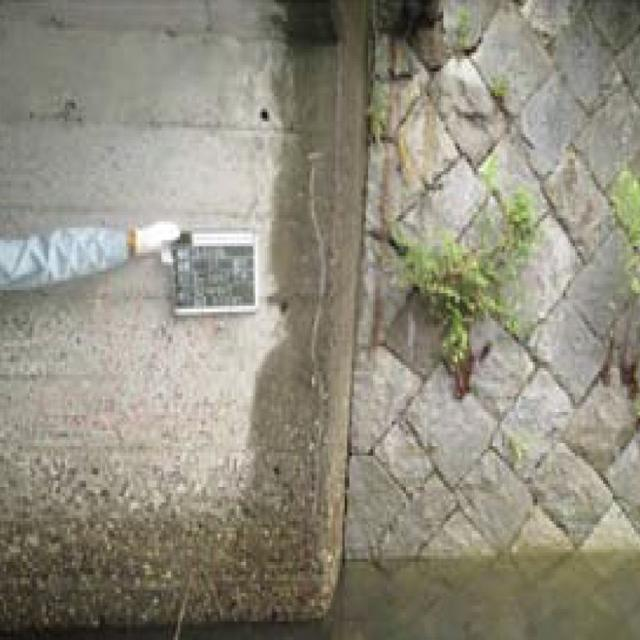leakage: (247, 23, 373, 564)
